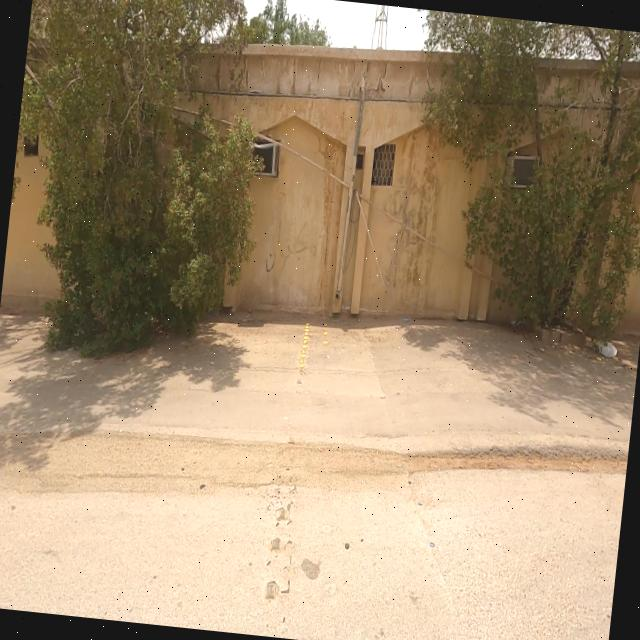Graffiti: (263, 216, 317, 281)
